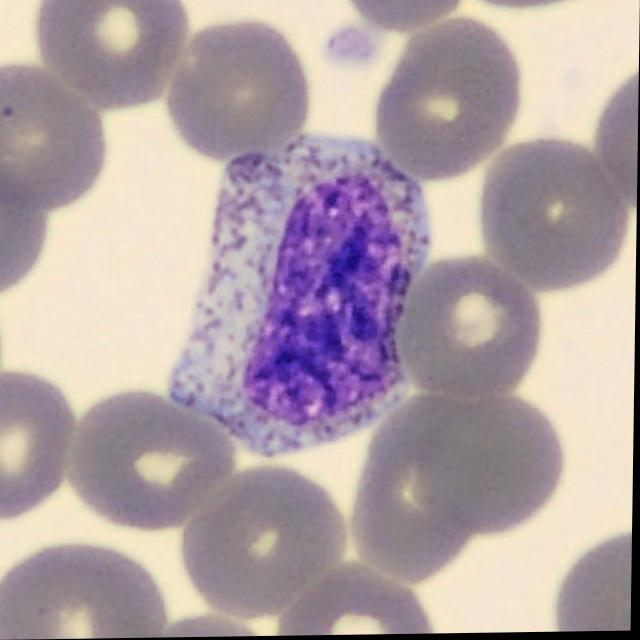Linfocito atipico: (169, 134, 432, 458)
